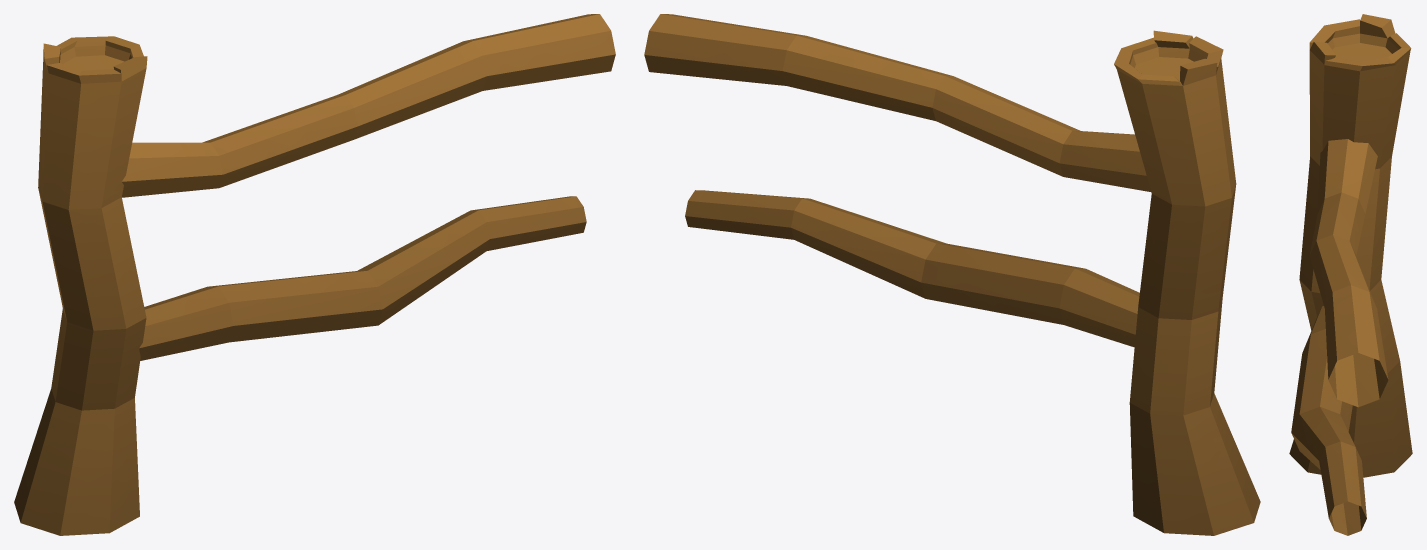
File: Fence002.fbx
The picture shows the model from 3 angles, left to right: view 1: azimuth 30°, elevation 25°; view 2: azimuth 150°, elevation 25°; view 3: azimuth 270°, elevation 25°; orthographic projection. The views are drawn at different scales.
Visible parts, largest first — view 1: Cylinder.008; view 2: Cylinder.008; view 3: Cylinder.008.
Boxes of the visible parts, bbox=[...] form: Cylinder.008: bbox=[14, 14, 615, 535]; Cylinder.008: bbox=[644, 14, 1260, 535]; Cylinder.008: bbox=[1289, 14, 1412, 535].
Bounding box in the file's own units: 292 × 217 × 56.55.
